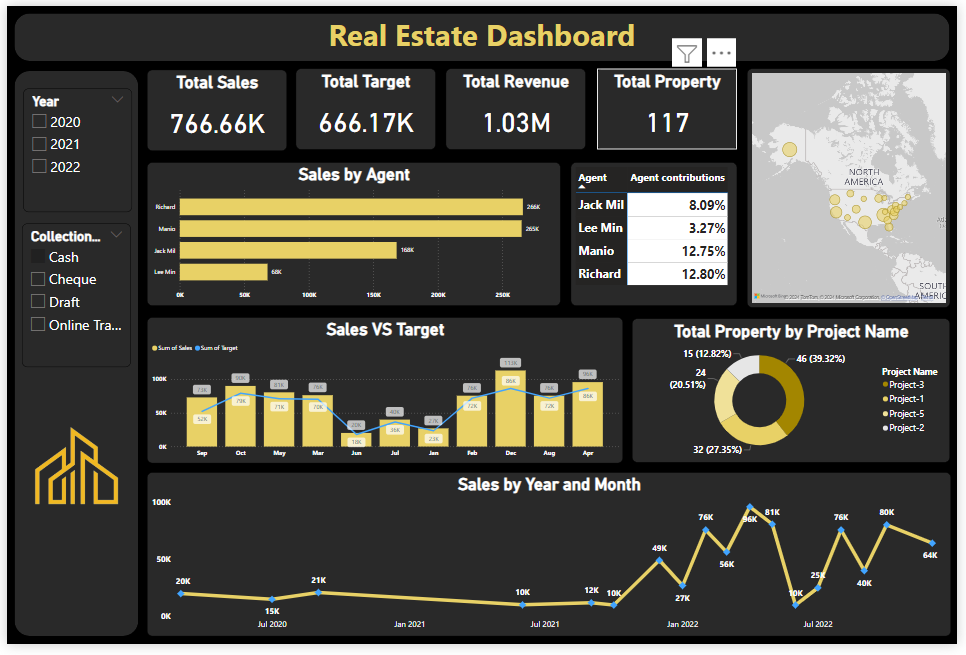

What the dashboard file says about the page in this screenshot:
{"tool":"powerbi","page":{"name":"Page 1","canvas":[1900,1277],"ordinal":0},"visuals":[{"type":"card","title":"Total Sales","fields":{"Values":["Measure.Total price"]},"box":[280,126.8,280,162],"z":0},{"type":"shape","box":[15,15,1870,95],"z":1000},{"type":"card","title":"Total Target","fields":{"Values":["Measure.Total Target"]},"box":[577.2,126,280,162],"z":2000},{"type":"card","title":"Total Revenue","fields":{"Values":["Measure.Total Revenue"]},"box":[877.2,126,280,162],"z":3000},{"type":"card","title":"Total Property","fields":{"Values":["Measure.Total Property"]},"box":[1179.2,126,280,162],"z":4000},{"type":"shape","box":[15,130,247.5,1130],"z":5000},{"type":"clusteredBarChart","title":"Sales by Agent","fields":{"Category":["Fact Real state.Agent"],"Y":["Fact Real state.Sales"]},"box":[280,312.5,827.5,287.5],"z":6000},{"type":"map","fields":{"Category":["Fact Real state.State"],"Size":["Fact Real state.Sales"]},"box":[1480,126,406,478],"z":7000},{"type":"lineChart","title":"Sales by Year and Month","fields":{"Y":["Fact Real state.Sales"],"Category":["Dim date.Date.Variation.Date Hierarchy.Year","Dim date.Date.Variation.Date Hierarchy.Month"]},"box":[280,932,1608,328],"z":8000},{"type":"donutChart","fields":{"Category":["Fact Real state.Project Name"],"Y":["Measure.Total Property"]},"box":[1250,626,636,288],"z":9000},{"type":"pivotTable","fields":{"Rows":["Fact Real state.Agent"],"Values":["Measure.Agent"]},"box":[1127.5,312.5,332.5,287.5],"z":10000},{"type":"lineClusteredColumnComboChart","title":"Sales VS Target ","fields":{"Category":["Dim date.Month"],"Y2":["Fact Real state.Target"],"Y":["Fact Real state.Sales"]},"box":[280,622,952,292],"z":11000},{"type":"slicer","fields":{"Values":["Dim date.Year"]},"box":[32.5,165,217.5,247.5],"z":12000},{"type":"slicer","fields":{"Values":["Fact Real state.Collection Bucket"]},"box":[30,435,217.5,287.5],"z":13000},{"type":"textbox","box":[15,12.5,1870,95],"z":14000},{"type":"image","box":[15,782.5,240,260],"z":16000}]}

Visuals, with their boxes in screenshot pixels (x1, y1, x2, y2), scaled from the page's 1900x1277 canvas onto the 966x655 screenshot:
"Total Sales" card: select_region(142, 65, 285, 148)
shape: select_region(8, 8, 958, 56)
"Total Target" card: select_region(293, 65, 436, 148)
"Total Revenue" card: select_region(446, 65, 588, 148)
"Total Property" card: select_region(600, 65, 742, 148)
shape: select_region(8, 67, 133, 646)
"Sales by Agent" clusteredBarChart: select_region(142, 160, 563, 308)
map - Fact Real state.State x Fact Real state.Sales: select_region(752, 65, 959, 310)
"Sales by Year and Month" lineChart: select_region(142, 478, 960, 646)
donutChart - Fact Real state.Project Name x Measure.Total Property: select_region(636, 321, 959, 469)
pivotTable - Fact Real state.Agent x Measure.Agent: select_region(573, 160, 742, 308)
"Sales VS Target " lineClusteredColumnComboChart: select_region(142, 319, 626, 469)
slicer - Dim date.Year: select_region(17, 85, 127, 212)
slicer - Fact Real state.Collection Bucket: select_region(15, 223, 126, 371)
textbox: select_region(8, 6, 958, 55)
image: select_region(8, 401, 130, 535)
